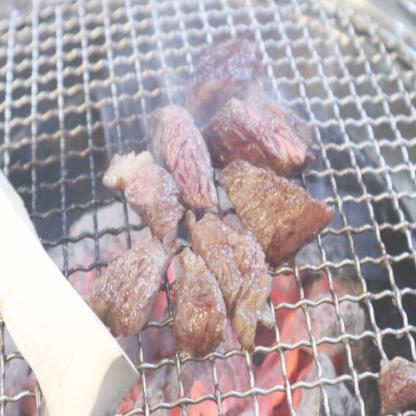Carne: (187, 210, 265, 330), (219, 159, 330, 239), (143, 101, 215, 216), (89, 233, 168, 326), (164, 241, 232, 348), (200, 96, 310, 153), (116, 150, 184, 242)
